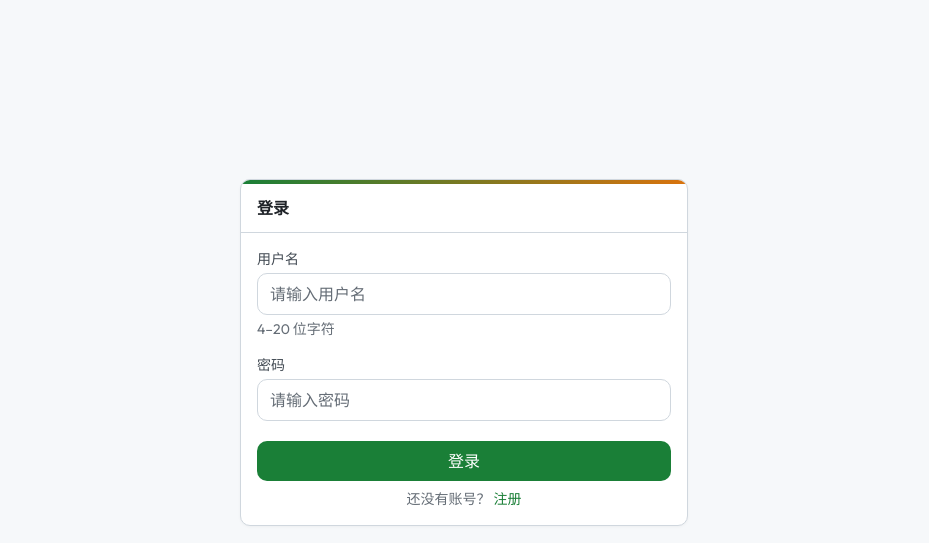
Batch Transfer Flow › should_display_batch_transfer_form_when_authenticated
In the field labelled "用户名": [464, 294] box x1=257 y1=273 x2=671 y2=315, type "e2euser"
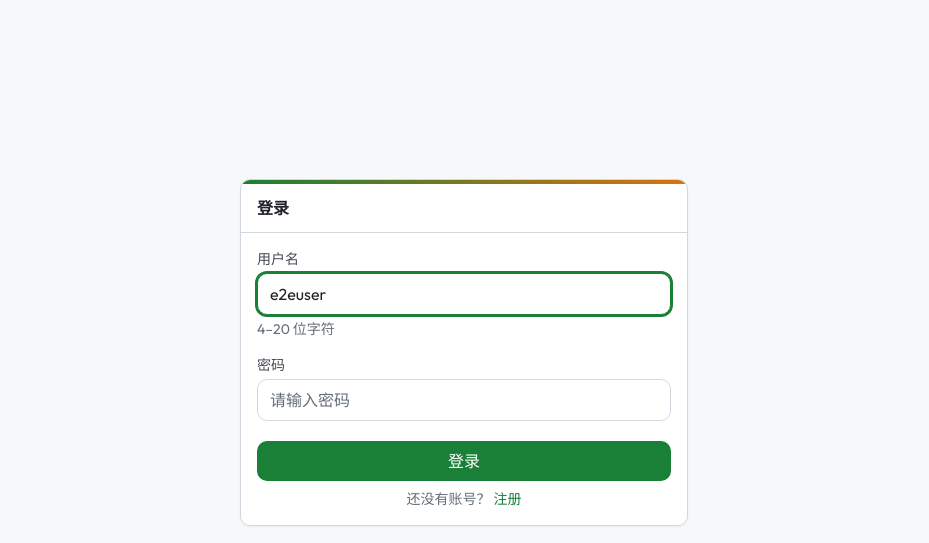
In the password field labelled "密码": [464, 400] box x1=257 y1=379 x2=671 y2=421, type "password1"
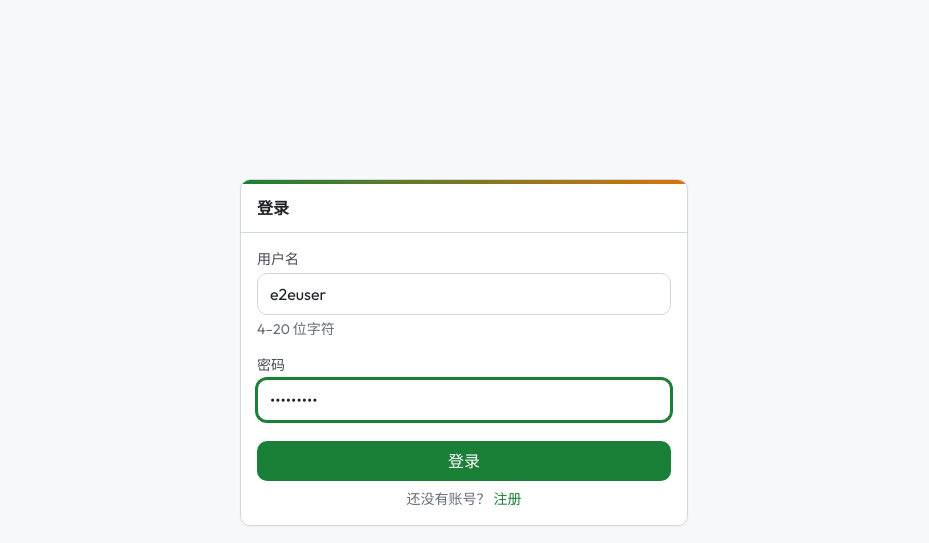
Click the submit button: [464, 461] box x1=257 y1=441 x2=671 y2=481
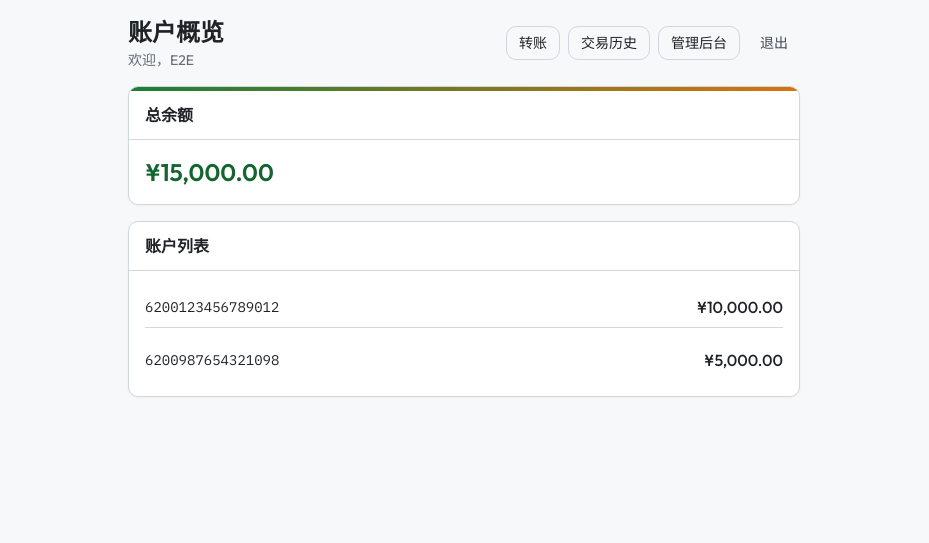
Open "/batch-transfer"
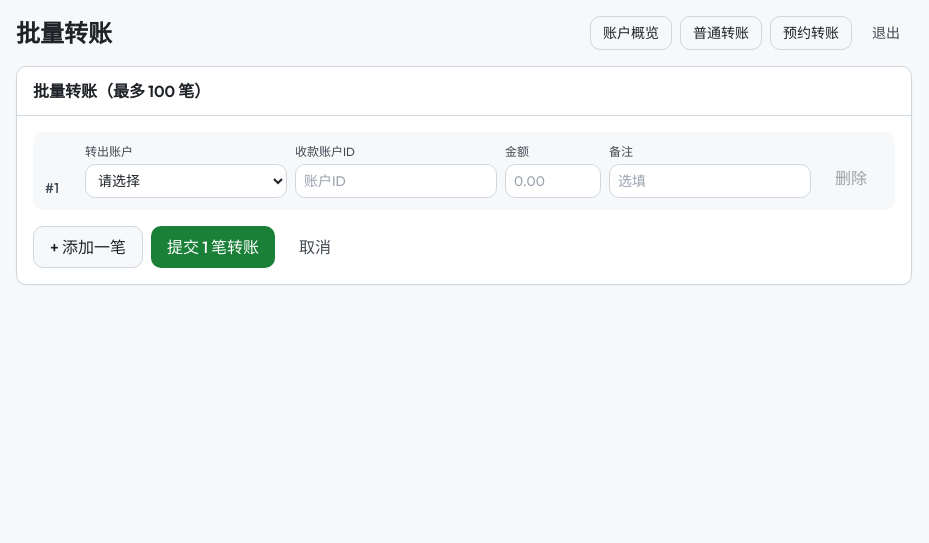
Result: the form is shown at x1=33 y1=132 x2=895 y2=268
Result: the heading "批量转账" is shown at x1=16 y1=17 x2=112 y2=49
Result: the button "+ 添加一笔" is shown at x1=33 y1=226 x2=143 y2=268
